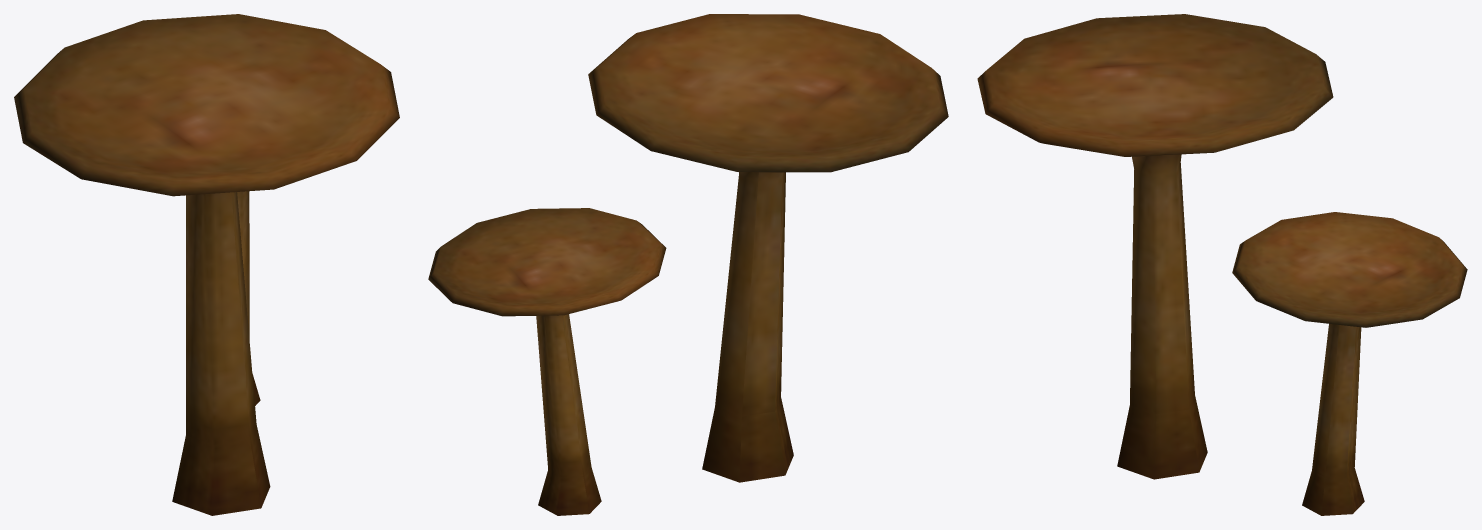
The model's file is mushroom_n_3_1.obj.
The picture shows the model from 3 angles, left to right: view 1: azimuth 30°, elevation 25°; view 2: azimuth 150°, elevation 25°; view 3: azimuth 270°, elevation 25°; orthographic projection. The views are drawn at different scales.
Parts seen in each view (by area): view 1: mushroom_n_3_1; view 2: mushroom_n_3_1; view 3: mushroom_n_3_1.
Part boxes in pixels (left/top/right/bottom): mushroom_n_3_1: left=14, top=14, right=399, bottom=515; mushroom_n_3_1: left=428, top=14, right=948, bottom=515; mushroom_n_3_1: left=977, top=14, right=1467, bottom=515.
Bounding box in the file's own units: 0.067 × 0.0644 × 0.0754.
